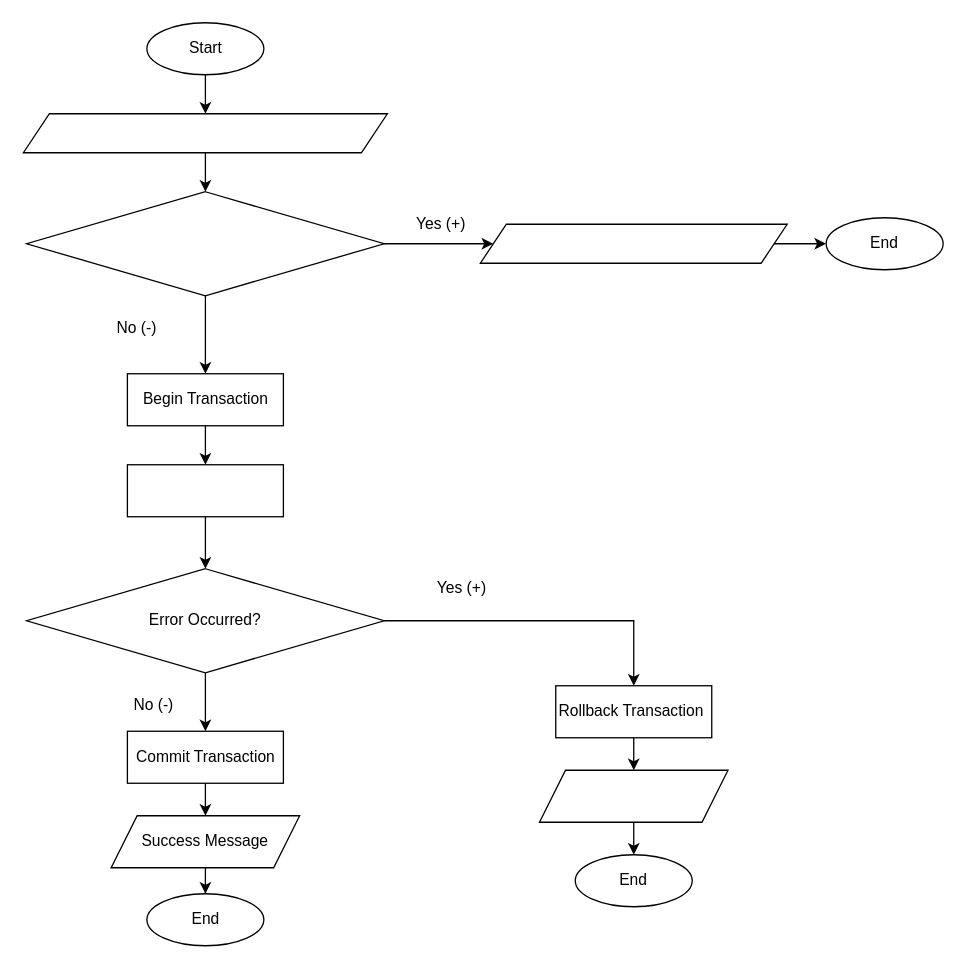
This 966x968 diagram has some shape labels left out. The centre of each missing label's shape, as x and y in pixels:
"Cannot delete customer with active reservations": (633,243)
Delete Customer: (204,490)
Enter Customer Data / Select Customer: (204,132)
Has Active Reservations?: (204,243)
Show Error Message: (633,795)
